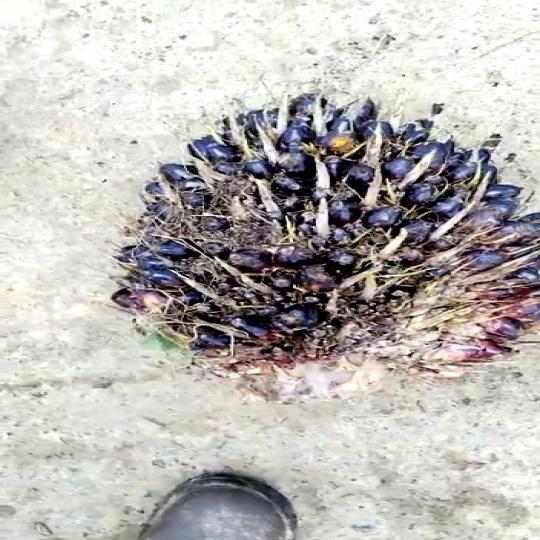mentah: (105, 84, 540, 388)
